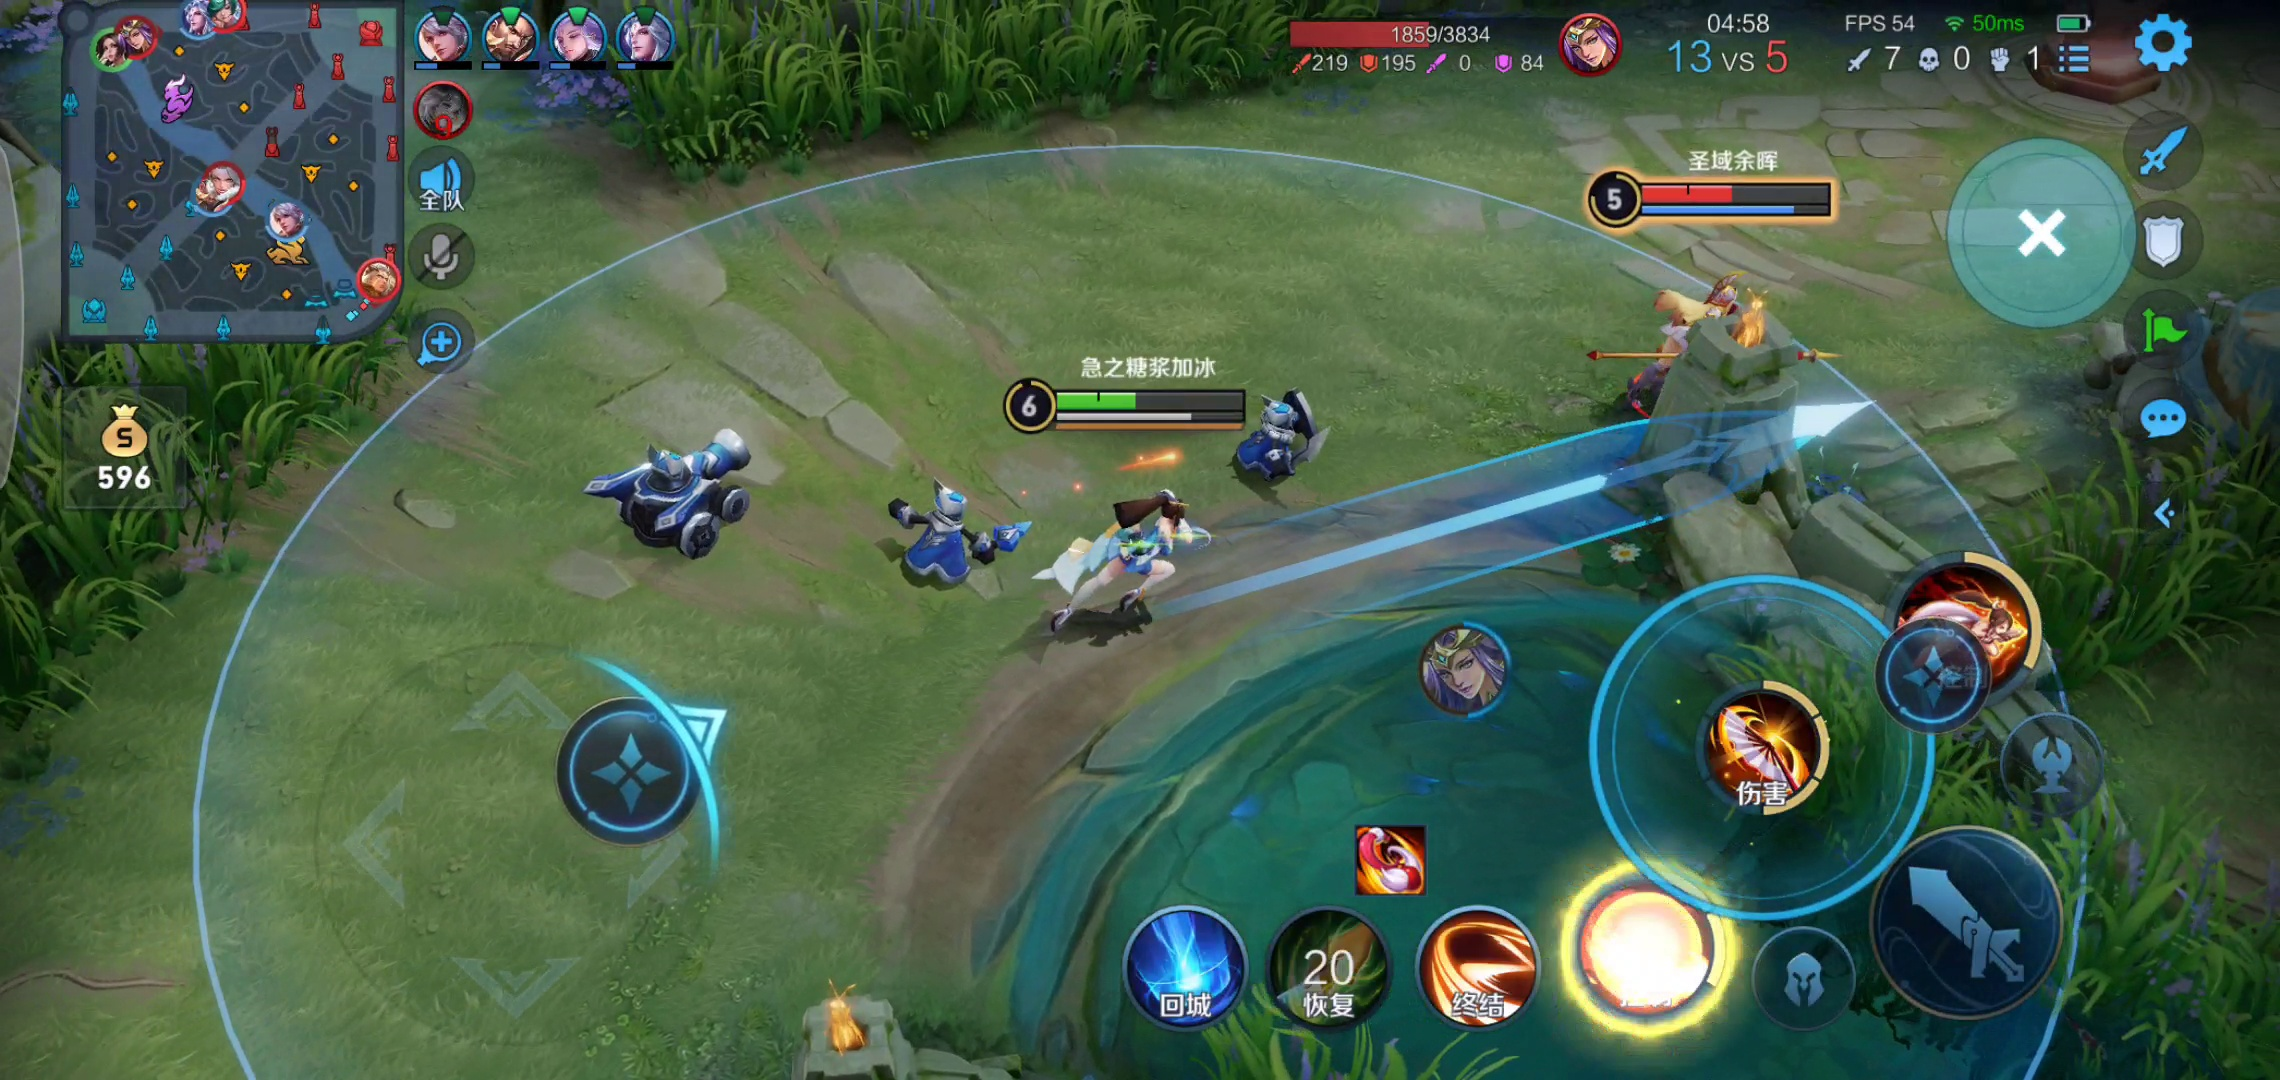grass: (1732, 704, 2267, 1080), (13, 349, 401, 692), (646, 1, 1373, 173), (2011, 433, 2276, 674)
hero: (1599, 254, 1823, 435), (1038, 480, 1211, 626)
soldier: (580, 414, 771, 567), (877, 488, 1027, 592), (1232, 392, 1333, 485)
